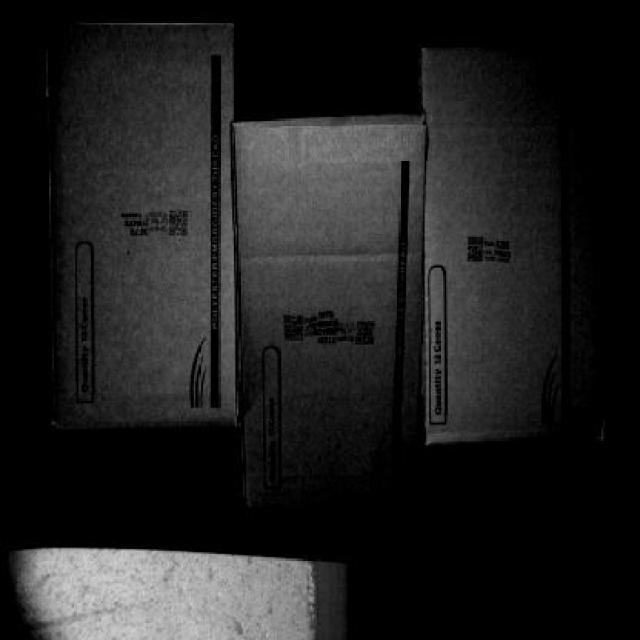cardboxes: (48, 20, 237, 428), (423, 52, 608, 443), (240, 125, 418, 506)
